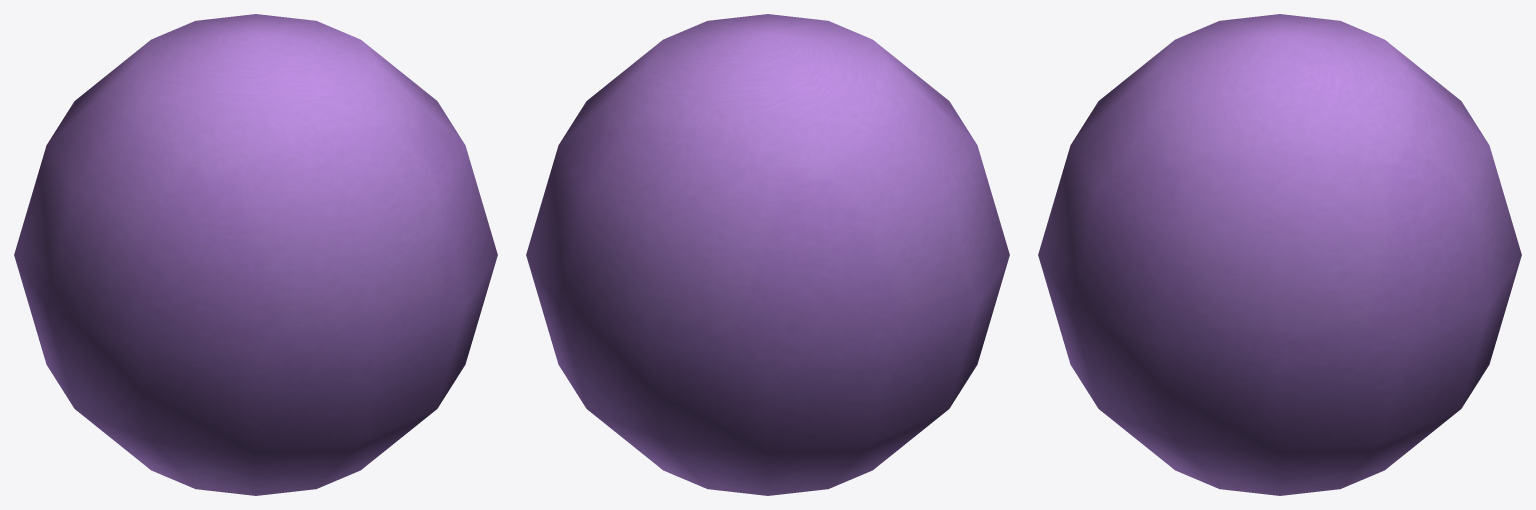
The model's file is pointer.gltf.
3 views of the same model, side by side, from view 1: azimuth 30°, elevation 25°; view 2: azimuth 150°, elevation 25°; view 3: azimuth 270°, elevation 25° (orthographic).
Parts seen in each view (by area): view 1: sphere_A; view 2: sphere_A; view 3: sphere_A.
Boxes of the visible parts, left/top/right/bottom form: sphere_A: left=14, top=14, right=497, bottom=495; sphere_A: left=526, top=14, right=1009, bottom=495; sphere_A: left=1038, top=14, right=1521, bottom=495.
Size of the model in its own units: 5.79 by 5.79 by 5.79.
2 materials, 2 textured.
